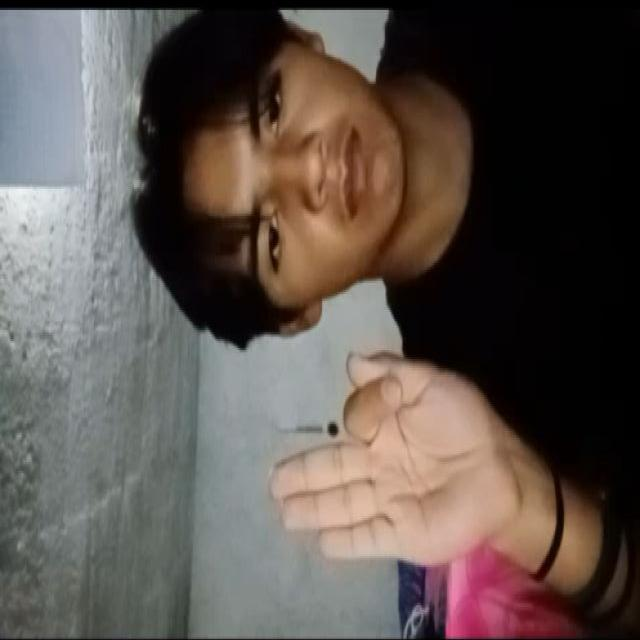F: (274, 345, 526, 598)
